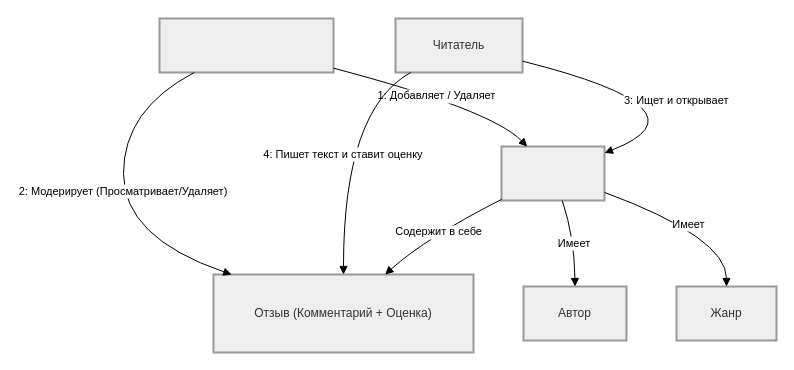
The diagram is 794 pixels wide and 370 high, and some of its shapes have lost their labels. The shapes that lost their labels are listed below. From the top down, each one's centre as x and y in pixels, then its label:
At (x=246, y=45): "Администратор".
At (x=552, y=173): "Книга".
